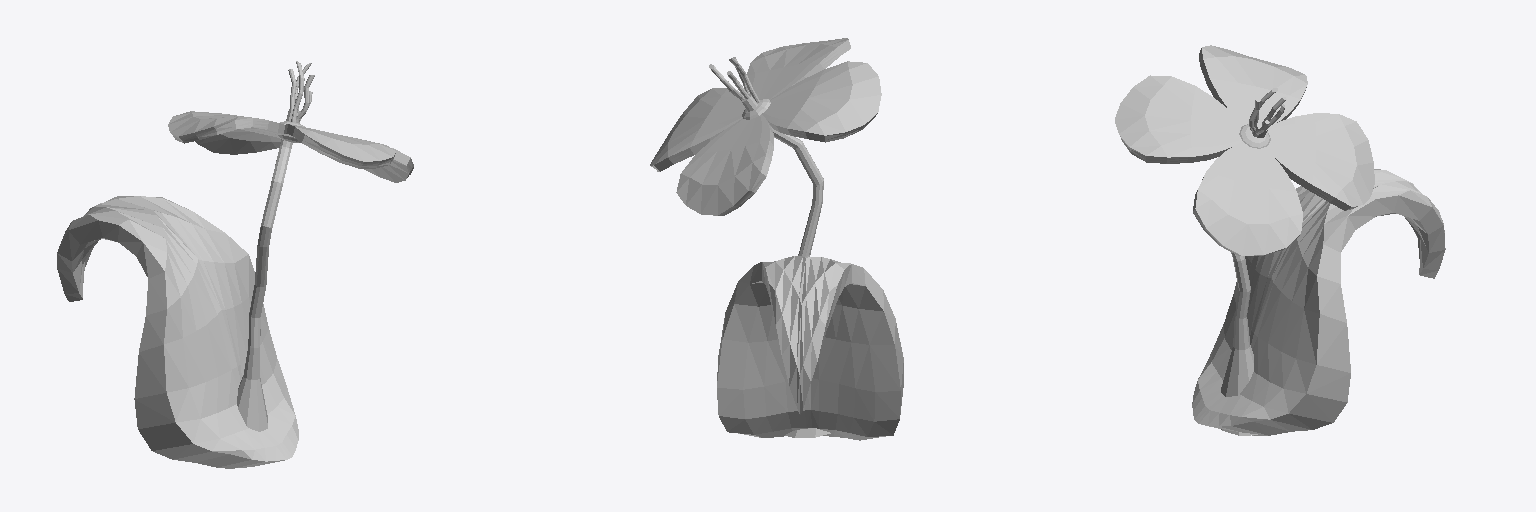
Rendered from flower.obj.
The picture shows the model from 3 angles: view 1: azimuth 30°, elevation 25°; view 2: azimuth 150°, elevation 25°; view 3: azimuth 270°, elevation 25°; orthographic projection.
Parts seen in each view (by area): view 1: flower; view 2: flower; view 3: flower.
Part boxes in pixels (x1,y1,x2,y2): flower: (57, 61, 413, 468); flower: (650, 38, 903, 440); flower: (1115, 45, 1445, 435).
Bounding box in the file's own units: 1.5 × 2.1 × 1.69.